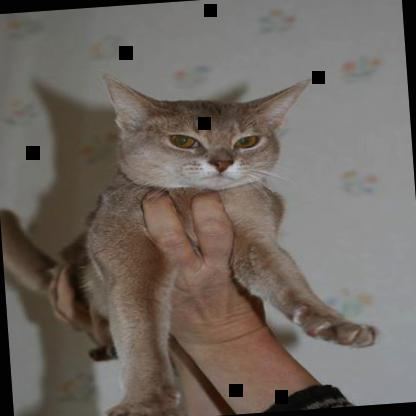cat: (0, 55, 385, 415)
